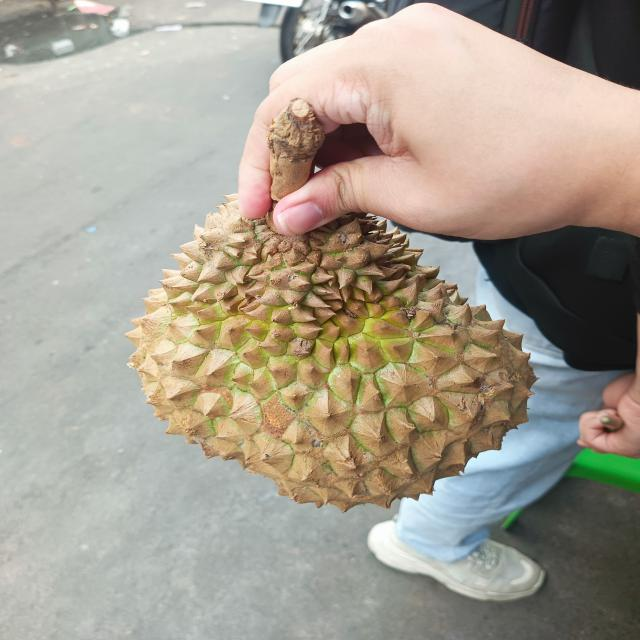mature: (119, 196, 537, 506)
